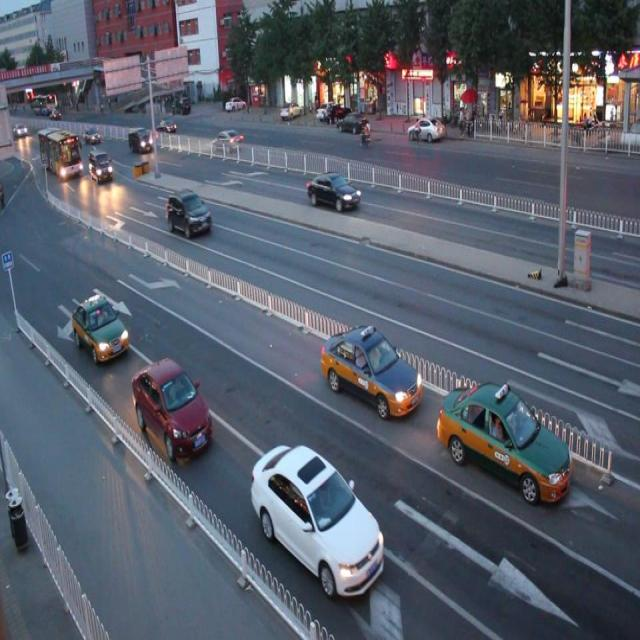car: (250, 441, 385, 597), (438, 374, 572, 504), (320, 322, 422, 418), (131, 356, 213, 458), (72, 294, 129, 361), (305, 169, 360, 210), (166, 188, 212, 236), (211, 126, 245, 153)
